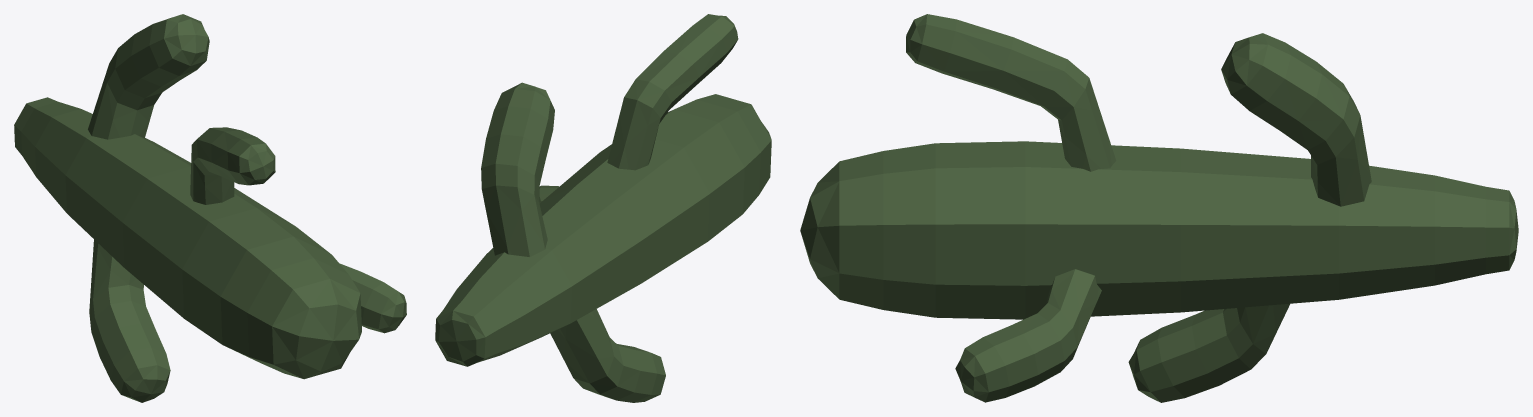
Rendered from cactus-2.obj.
3 views of the same model, side by side, from view 1: azimuth 30°, elevation 25°; view 2: azimuth 150°, elevation 25°; view 3: azimuth 270°, elevation 25° (orthographic). The views are drawn at different scales.
Parts seen in each view (by area): view 1: cactus-2; view 2: cactus-2; view 3: cactus-2.
Boxes of the visible parts, x1,y1,x2,y2 form: cactus-2: (14,14,406,402); cactus-2: (435,14,771,402); cactus-2: (800,14,1518,402).
Bounding box in the file's own units: 34.65 × 51.99 × 84.
